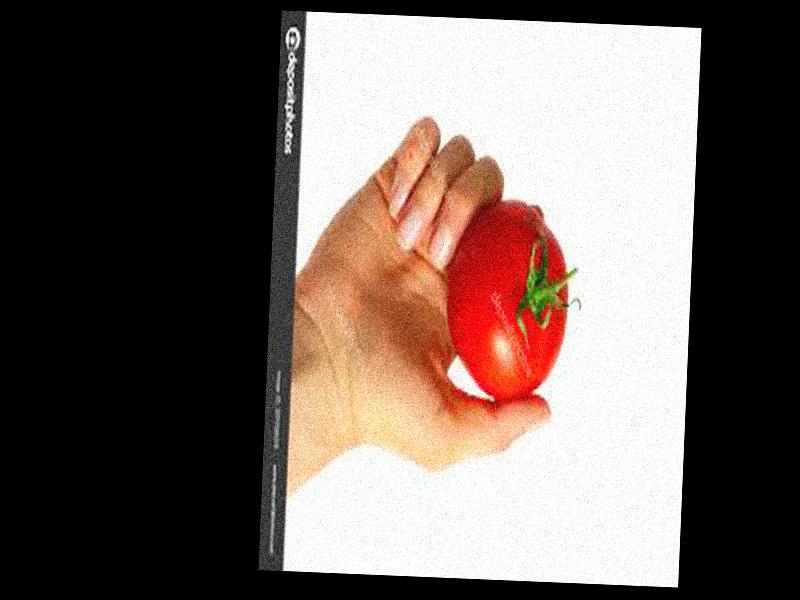Tomato: (442, 201, 573, 401)
